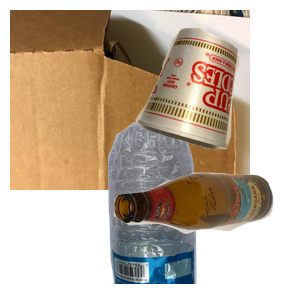cardboard: (10, 10, 250, 190)
glass: (111, 170, 300, 300)
plastic: (96, 120, 285, 300)
trash: (133, 25, 300, 167)
